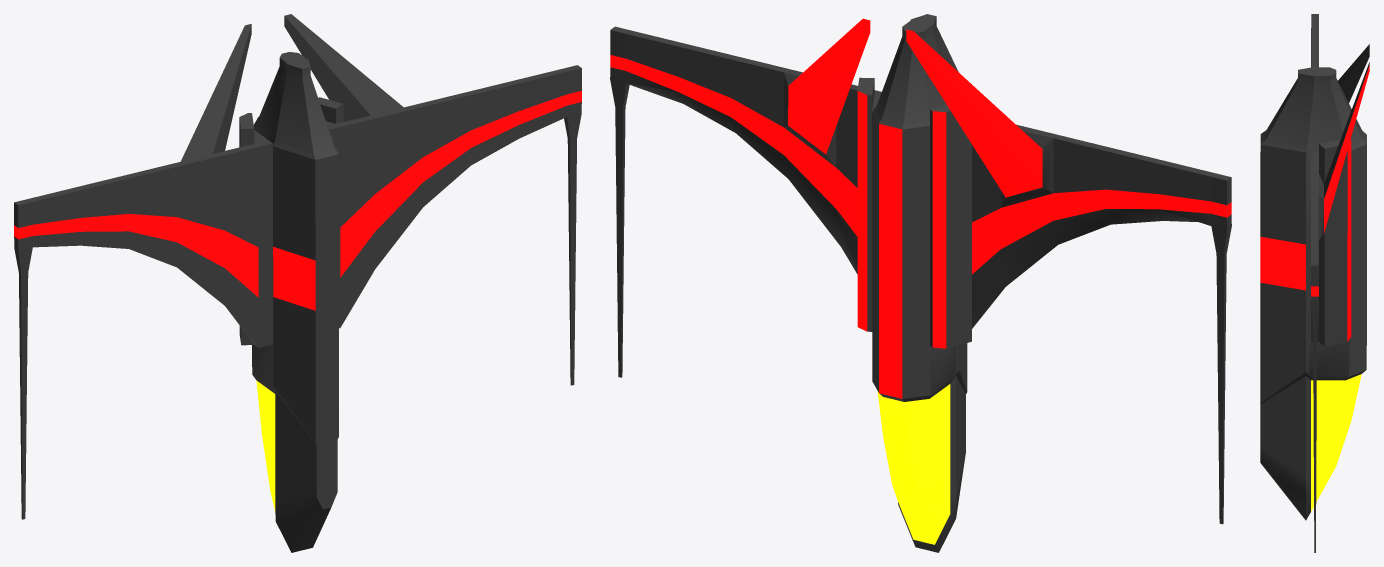
File: enemy ship red.fbx
The picture shows the model from 3 angles, left to right: view 1: azimuth 30°, elevation 25°; view 2: azimuth 150°, elevation 25°; view 3: azimuth 270°, elevation 25°; orthographic projection. The views are drawn at different scales.
Parts seen in each view (by area): view 1: EnemyShipRed; view 2: EnemyShipRed; view 3: EnemyShipRed.
Boxes of the visible parts, x1,y1,x2,y2 form: EnemyShipRed: (14,14,581,552); EnemyShipRed: (610,14,1231,552); EnemyShipRed: (1260,14,1369,552).
Bounding box in the file's own units: 1173 × 1005 × 216.
